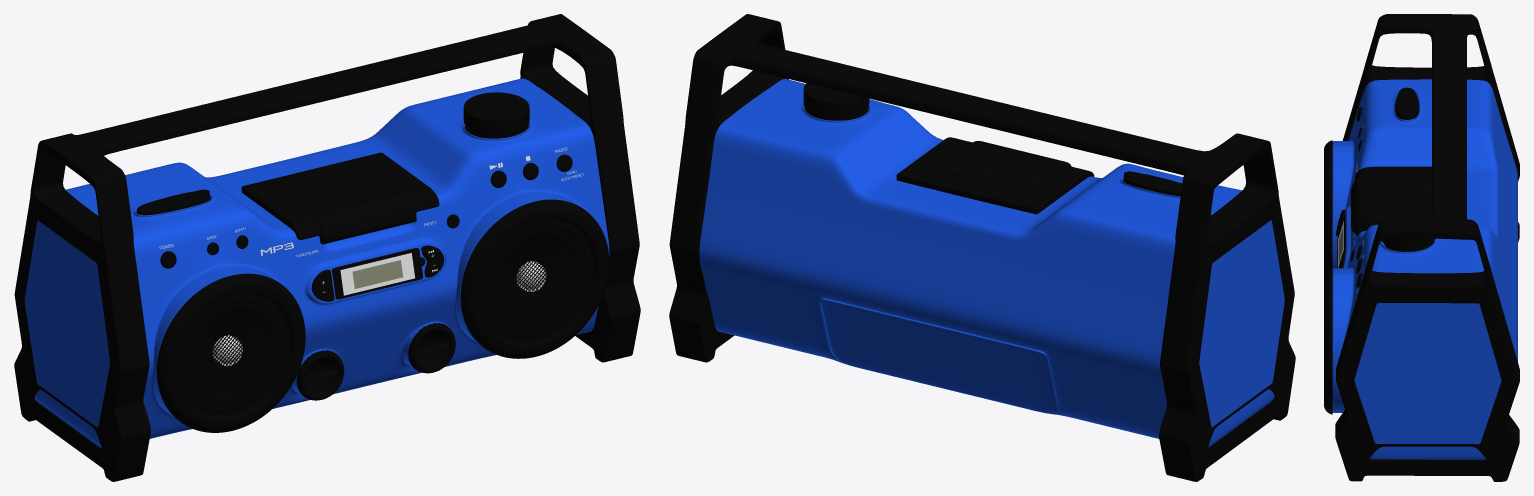
The model's file is uploads_files_3054137_Sony+ZS-H10CP.fbx.
3 views of the same model, side by side, from view 1: azimuth 30°, elevation 25°; view 2: azimuth 150°, elevation 25°; view 3: azimuth 270°, elevation 25° (orthographic). The views are drawn at different scales.
Parts seen in each view (by area): view 1: Boombox; view 2: Boombox; view 3: Boombox.
Part boxes in pixels (x1=…): Boombox: x1=14, y1=14, x2=640, y2=481; Boombox: x1=669, y1=14, x2=1295, y2=481; Boombox: x1=1324, y1=14, x2=1519, y2=481.
Bounding box in the file's own units: 949 × 508 × 360.
